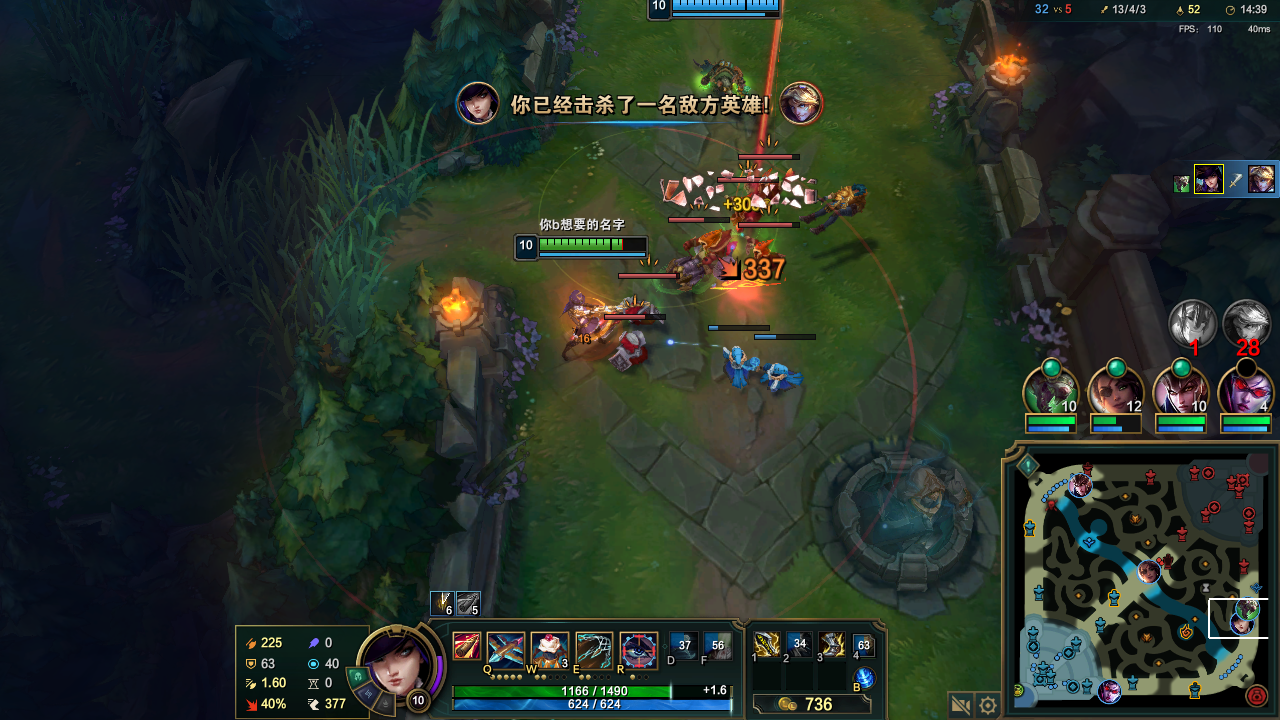DFXB: (670, 225, 732, 287), (610, 328, 654, 372), (742, 242, 788, 284), (746, 165, 784, 205), (727, 197, 763, 231), (624, 296, 662, 326)
WFXB: (765, 353, 803, 390), (722, 350, 754, 380)
